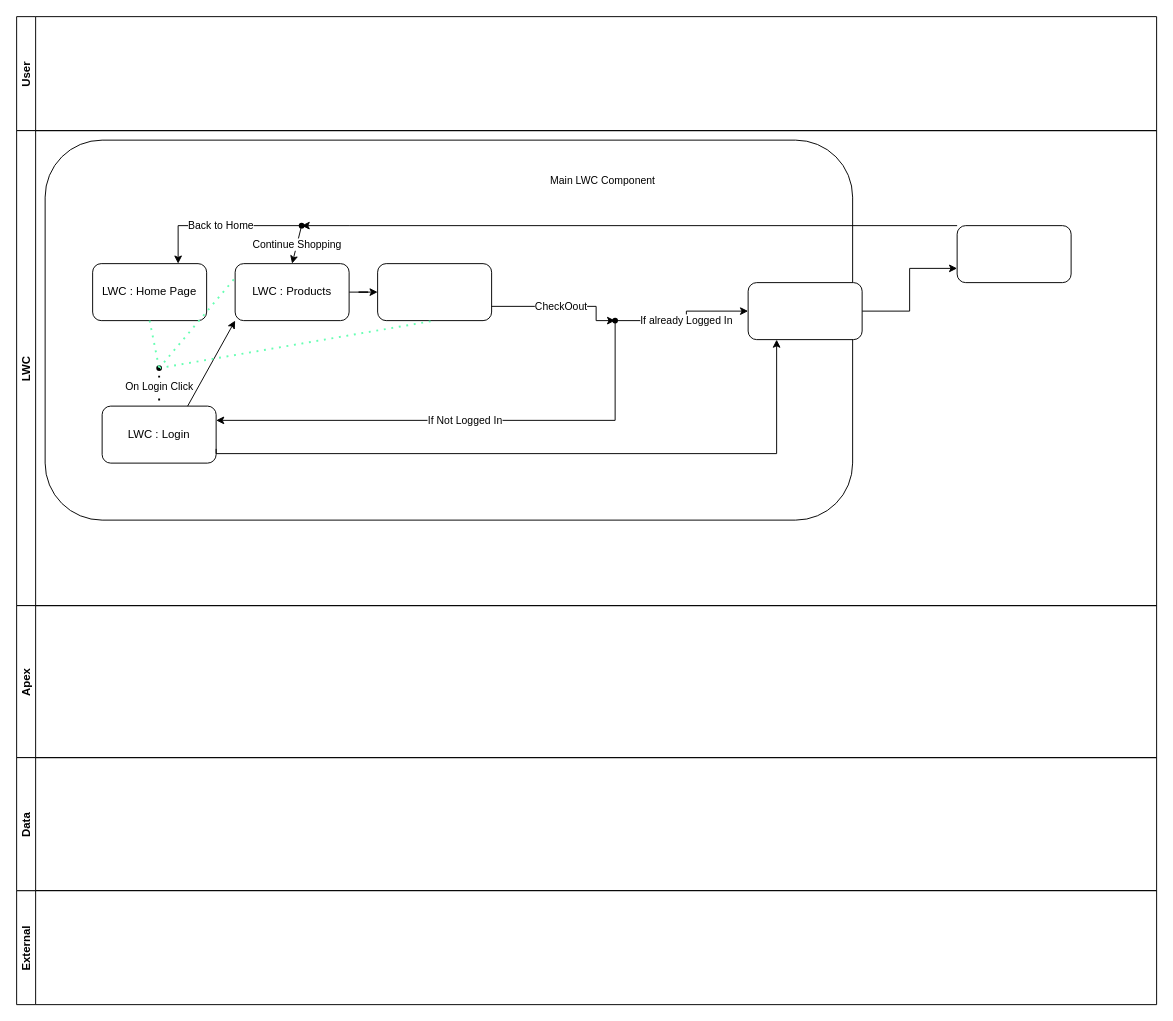
Image size: 1173x1021. Some labels were removed from this diagram. Here are the shapes that lost their labels. From the top down, the box of each, then its label:
(956, 225, 1071, 283): LWC : Order Co nfimation
(377, 263, 492, 321): LWC : Cart
(747, 282, 862, 340): LWC : CheckOut
(44, 139, 853, 520): LWC Home Main
